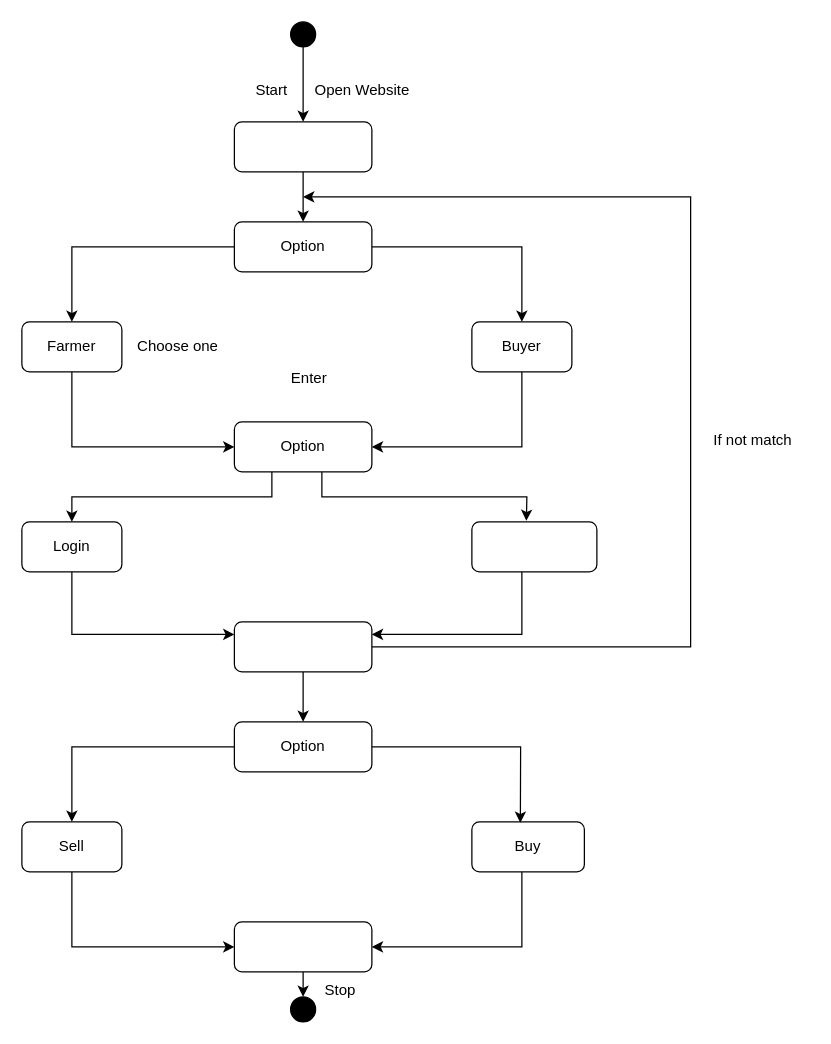
Some shapes in this 831 by 1044 pixel diagram are drawn without their labels. Here are the shapes that lost their labels. From the top down, the centre of each, then its label:
At point (302, 146): "Webpage Display".
At point (534, 546): "Registration".
At point (302, 646): "Checks Database".
At point (302, 946): "Display Information".
